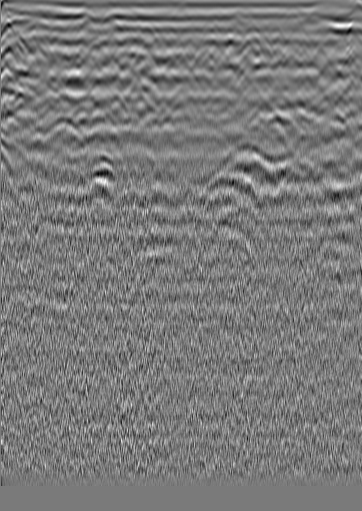가스: (83, 164, 116, 191)
상수: (311, 32, 331, 52)
오수: (26, 17, 46, 37)
우수: (182, 34, 202, 54)
